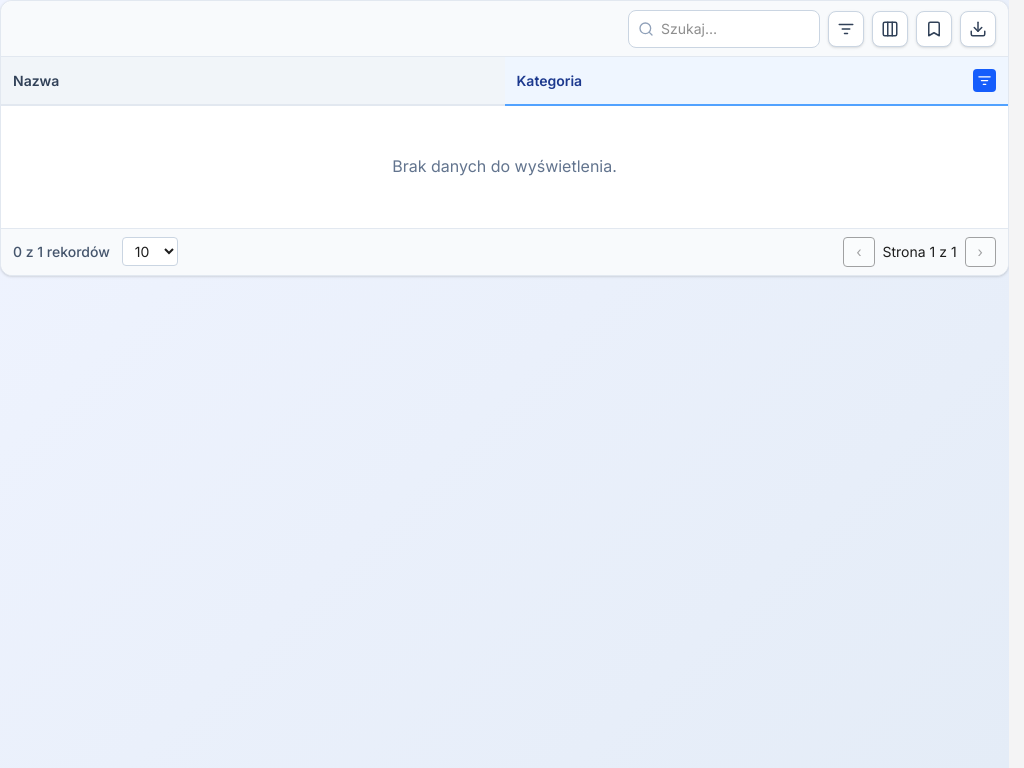
Test: DataGrid inline editing › keeps a configured default filter available when no row currently has that value
Expected: the text "Brak danych do wyświetlenia." is shown, top-left (1, 106), bottom-right (1008, 228)
Click the button named "Filtry - aktywne: 1".
click(846, 28)  # box top-left (828, 10), bottom-right (864, 46)
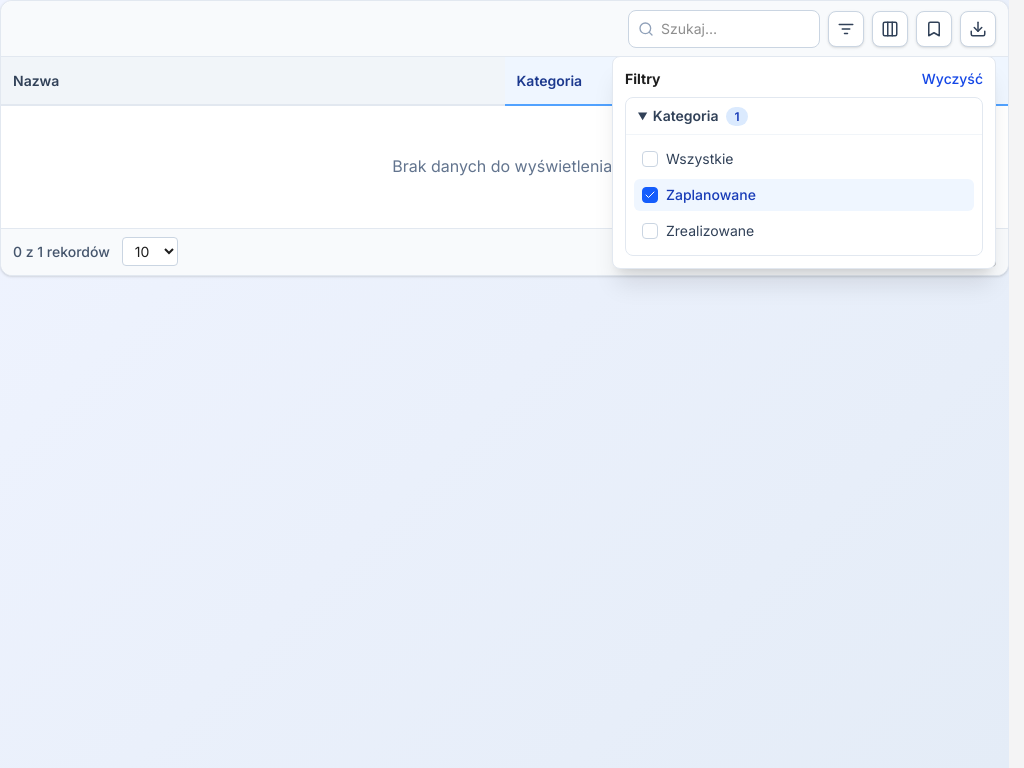
Expected: the button "Zaplanowane" is shown, top-left (634, 178), bottom-right (974, 210)
Expected: the button "Zrealizowane" is shown, top-left (634, 214), bottom-right (974, 246)
